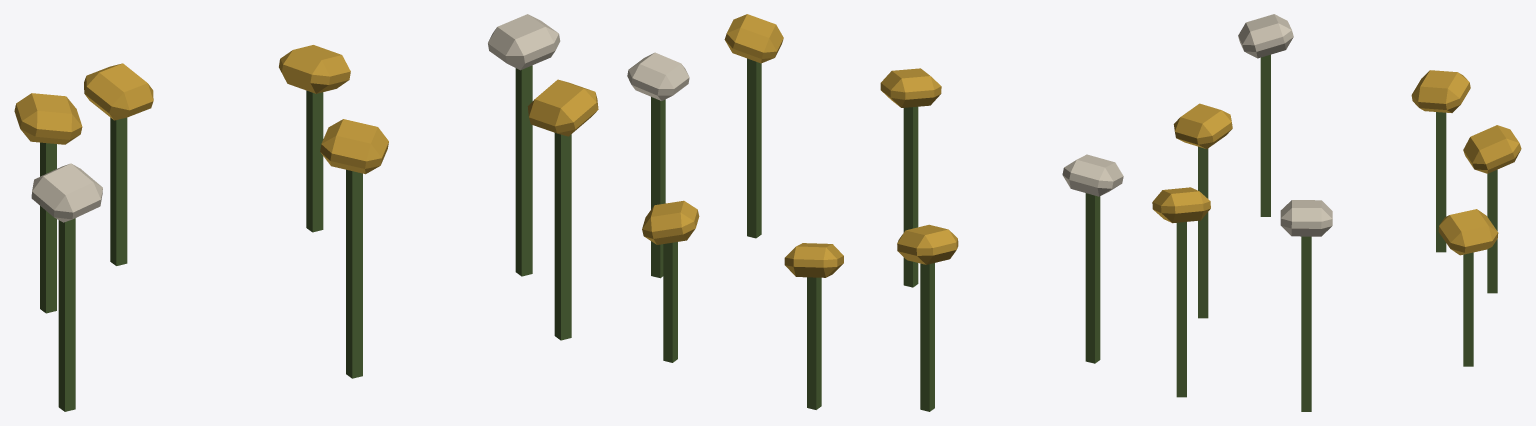
Rendered from flores.glb.
3 renders of one model, left to right at view 1: azimuth 30°, elevation 25°; view 2: azimuth 150°, elevation 25°; view 3: azimuth 270°, elevation 25°, orthographic. The views are drawn at different scales.
Visible parts, largest first — view 1: flores.001; view 2: flores.001; view 3: flores.001.
Part boxes in pixels (<box>): flores.001: <box>14,14,598,411</box>; flores.001: <box>627,14,1123,411</box>; flores.001: <box>1152,14,1521,411</box>.
Bounding box in the file's own units: 0.6956 × 0.3083 × 0.4982.
